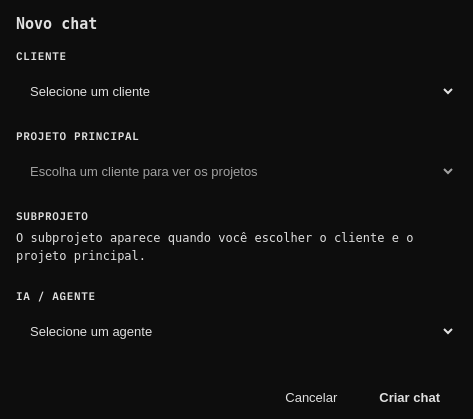
Test: NewChatSheet — modo "Todos" (sem cliente fixo, select de Cliente) › changing the chosen client resets the previously selected project
The image size is (473, 419).
Select "Cliente 1" in the dropdown named "Cliente" at (236, 91), box [16, 69, 456, 113]
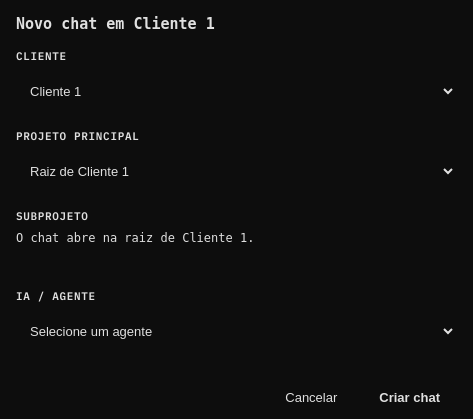
Select "subprojeto_1" in the dropdown named "Projeto principal" at (236, 171), box [16, 149, 456, 193]
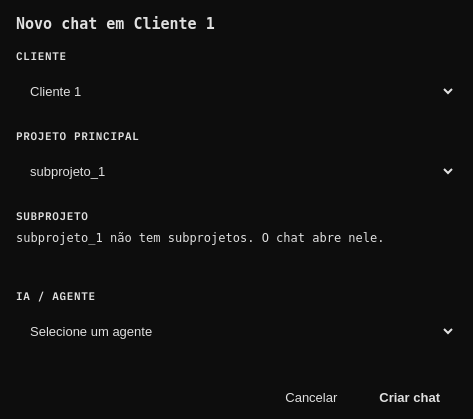
Select "Pode Subir" in the dropdown named "Cliente" at (236, 91), box [16, 69, 456, 113]
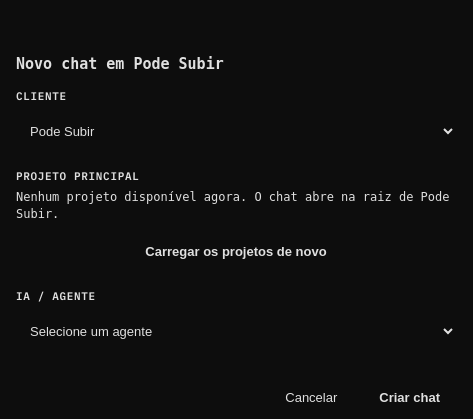
Select "Cliente 1" in the dropdown named "Cliente" at (236, 131), box [16, 109, 456, 153]
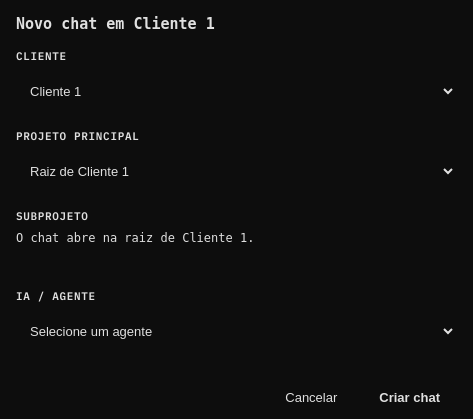
Now the dropdown named "Projeto principal" shows "Raiz de Cliente 1", box [16, 149, 456, 193]
